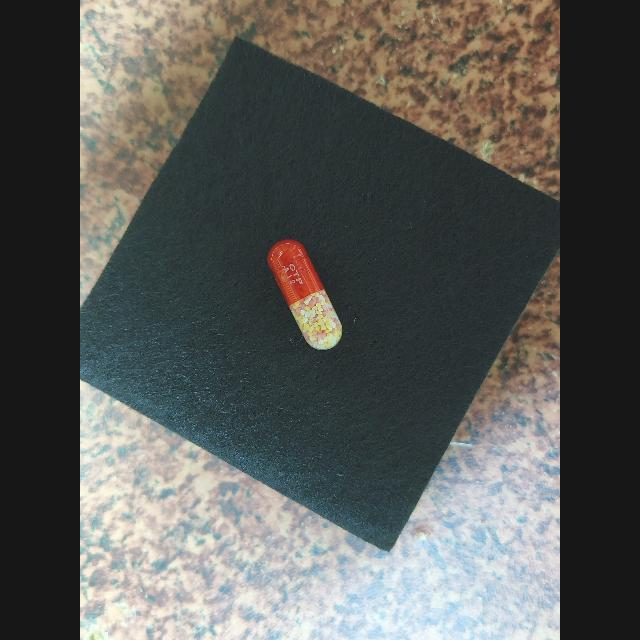Intact Capsule: (267, 239, 342, 350)
